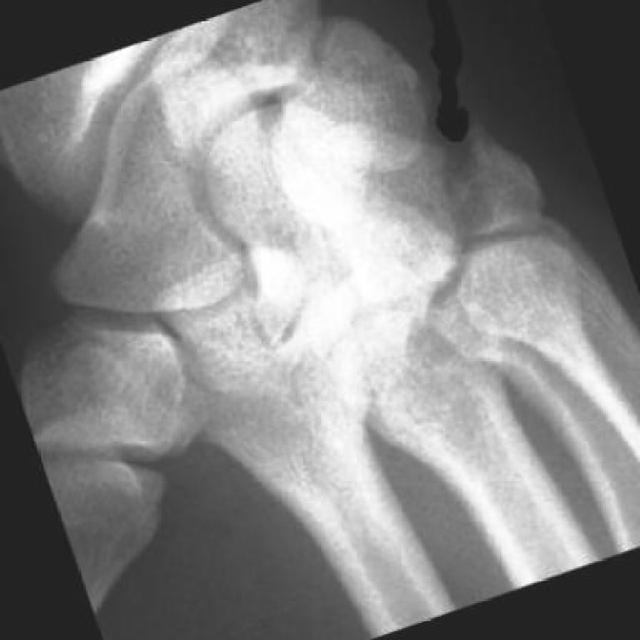Fracture: (400, 119, 528, 268)
